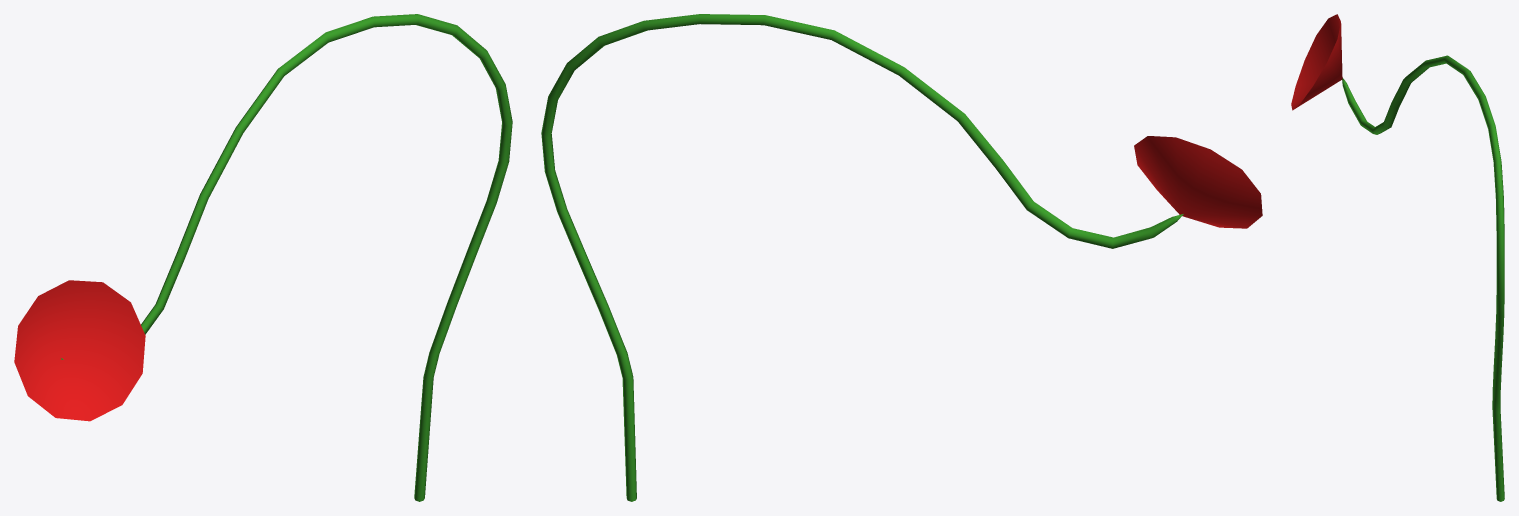
Rendered from SM_flower_04.fbx.
3 views of the same model, side by side, from view 1: azimuth 30°, elevation 25°; view 2: azimuth 150°, elevation 25°; view 3: azimuth 270°, elevation 25° (orthographic). The views are drawn at different scales.
Visible parts, largest first — view 1: Object3427864; view 2: Object3427864; view 3: Object3427864.
Part boxes in pixels (x1=…): Object3427864: x1=14, y1=14, x2=512, y2=501; Object3427864: x1=541, y1=14, x2=1262, y2=501; Object3427864: x1=1291, y1=14, x2=1504, y2=501.
Bounding box in the file's own units: 23.04 × 18.16 × 9.06.
